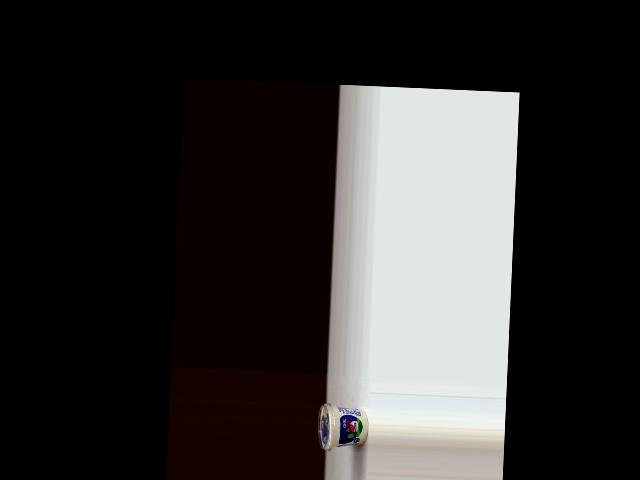cotage: (317, 401, 369, 452)
